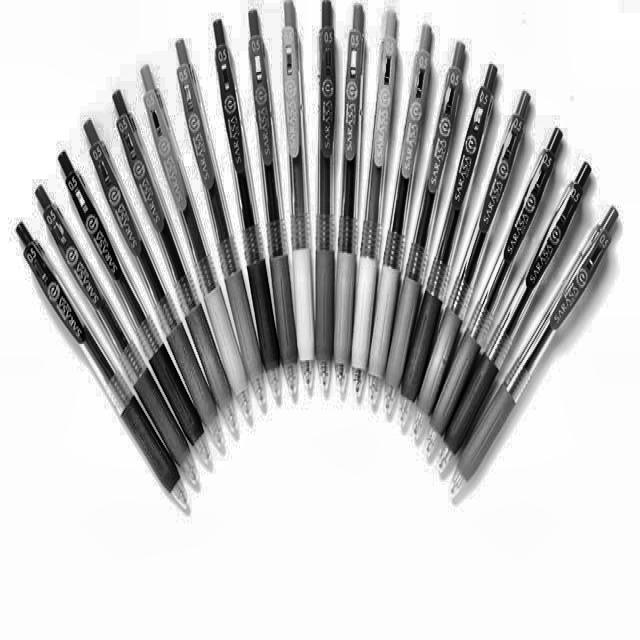Pen: (13, 0, 313, 522), (334, 0, 620, 501), (311, 0, 335, 402)
